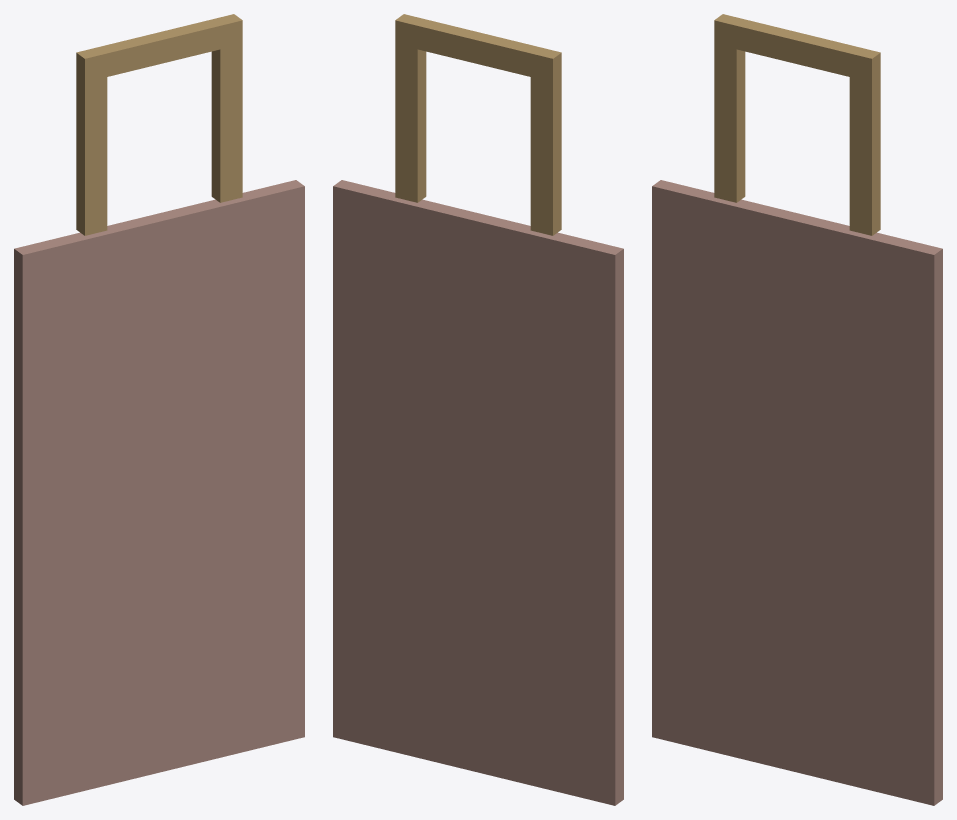
The model's file is corridor_door_hanger.glb.
The picture shows the model from 3 angles, left to right: view 1: azimuth 30°, elevation 25°; view 2: azimuth 150°, elevation 25°; view 3: azimuth 330°, elevation 25°; orthographic projection.
Visible parts, largest first — view 1: corridor_door_hanger; view 2: corridor_door_hanger; view 3: corridor_door_hanger.
Part boxes in pixels (<box>): corridor_door_hanger: <box>14,14,304,805</box>; corridor_door_hanger: <box>333,14,623,805</box>; corridor_door_hanger: <box>652,14,942,805</box>.
Bounding box in the file's own units: 0.075 × 0.186 × 0.004.
